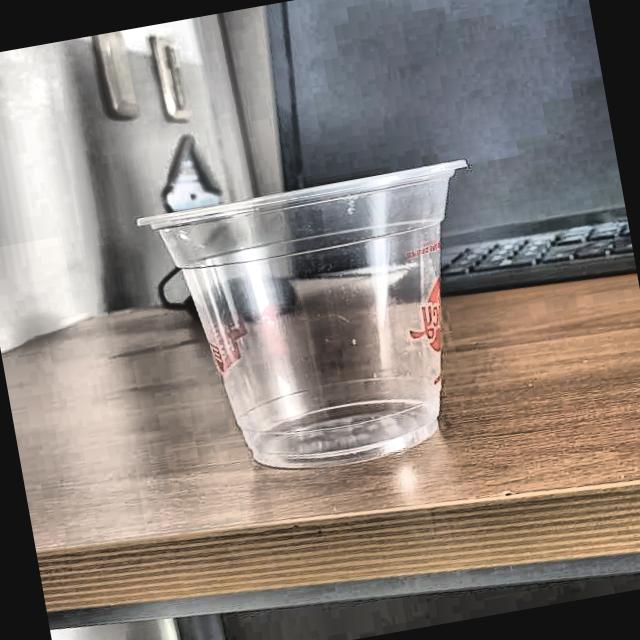plastic cup: (141, 150, 519, 492)
